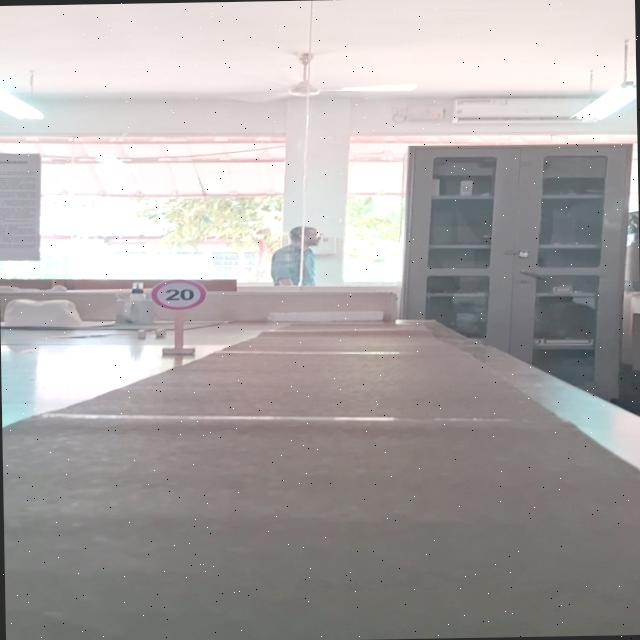Speed20: (146, 276, 210, 312)
